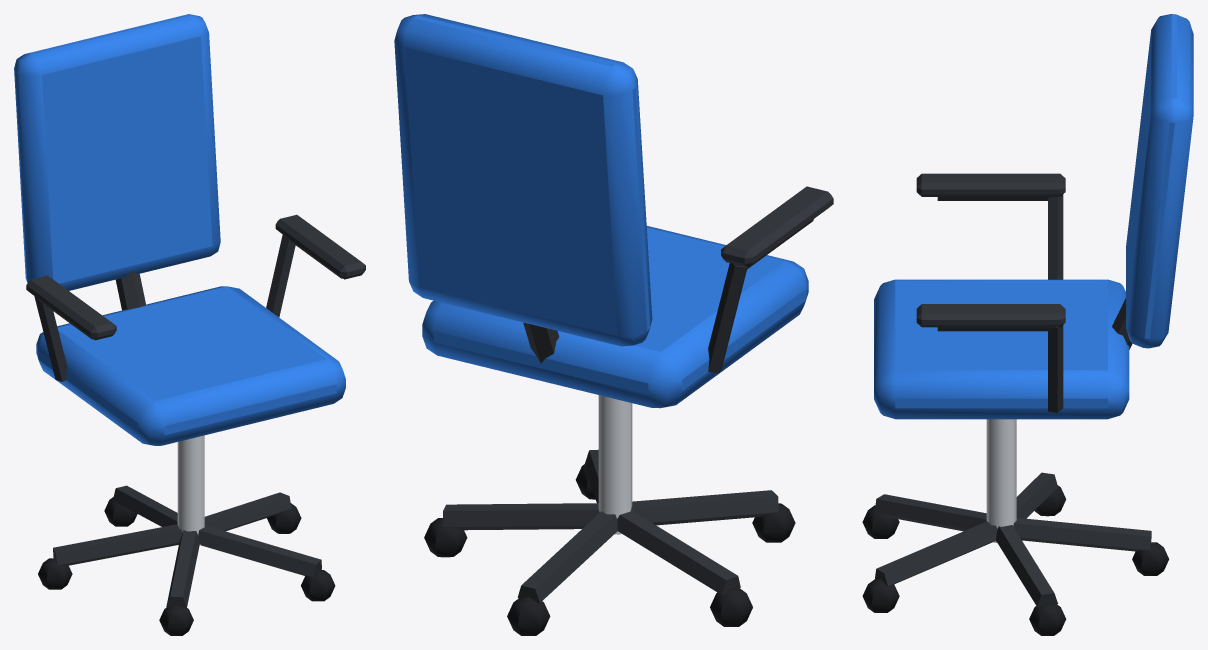
File: office_chair.glb
3 views of the same model, side by side, from view 1: azimuth 30°, elevation 25°; view 2: azimuth 150°, elevation 25°; view 3: azimuth 270°, elevation 25° (orthographic). The views are drawn at different scales.
Parts seen in each view (by area): view 1: office_chair; view 2: office_chair; view 3: office_chair.
Boxes of the visible parts, x1,y1,x2,y2 form: office_chair: [14, 14, 365, 635]; office_chair: [394, 14, 833, 635]; office_chair: [862, 14, 1193, 635].
Bounding box in the file's own units: 0.64 × 1.08 × 0.622.
